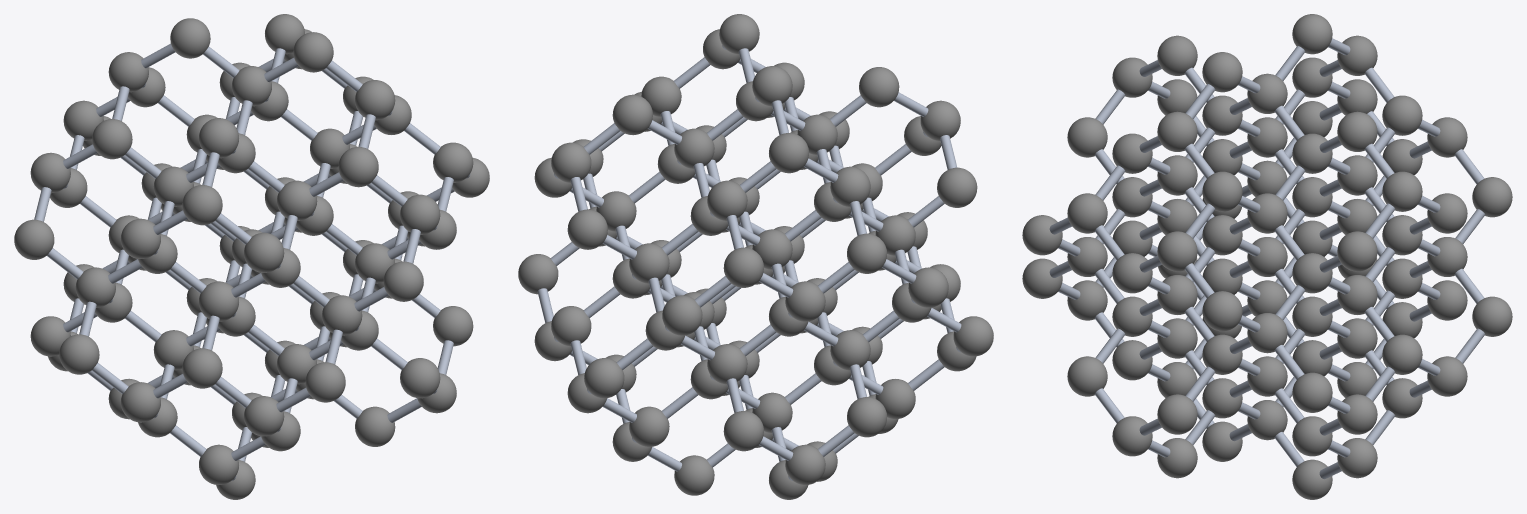
File: diamond.glb
The picture shows the model from 3 angles, left to right: view 1: azimuth 30°, elevation 25°; view 2: azimuth 150°, elevation 25°; view 3: azimuth 270°, elevation 25°; orthographic projection.
Visible parts, largest first — view 1: C (×54); view 2: C (×54); view 3: C (×83).
Boxes of the visible parts, bbox=[...] form: C (×54): bbox=[14, 14, 489, 499]; C (×54): bbox=[518, 14, 993, 499]; C (×83): bbox=[1022, 14, 1512, 499].
Bounding box in the file's own units: 0.22 × 0.22 × 0.22.
